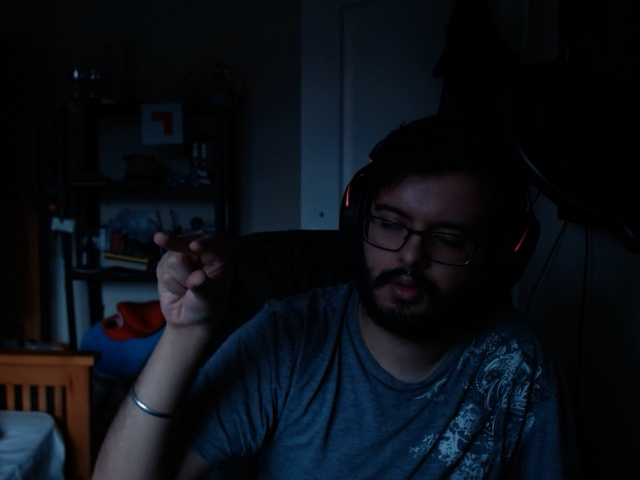No: (134, 224, 242, 330)
